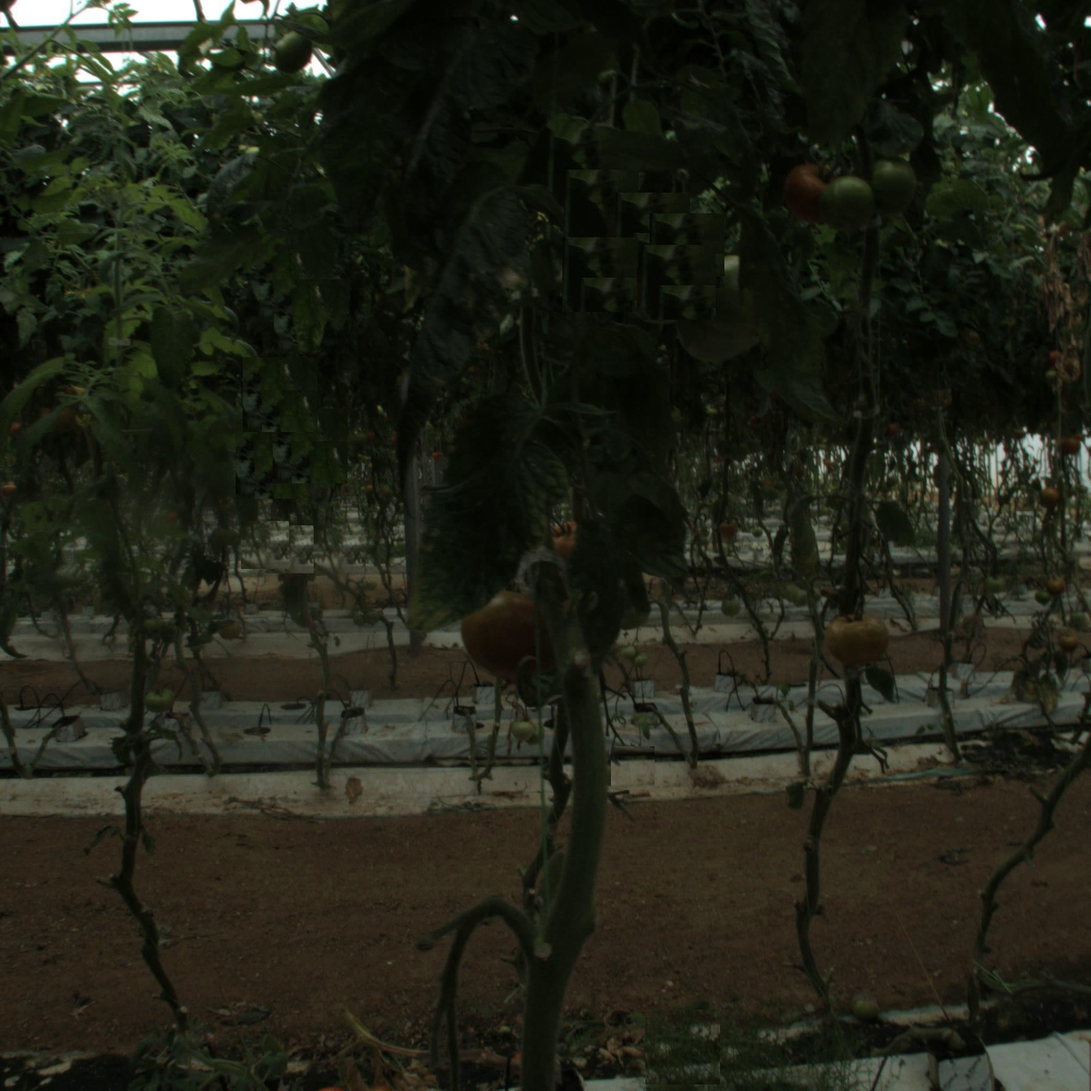['unripe', 'semi-ripe', 'fully-ripe']: (862, 157, 922, 217), (822, 175, 882, 235)
